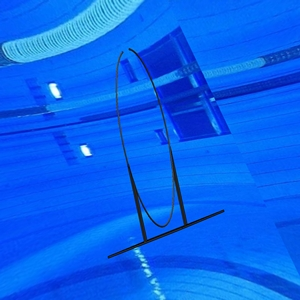circle: (107, 47, 225, 260)
